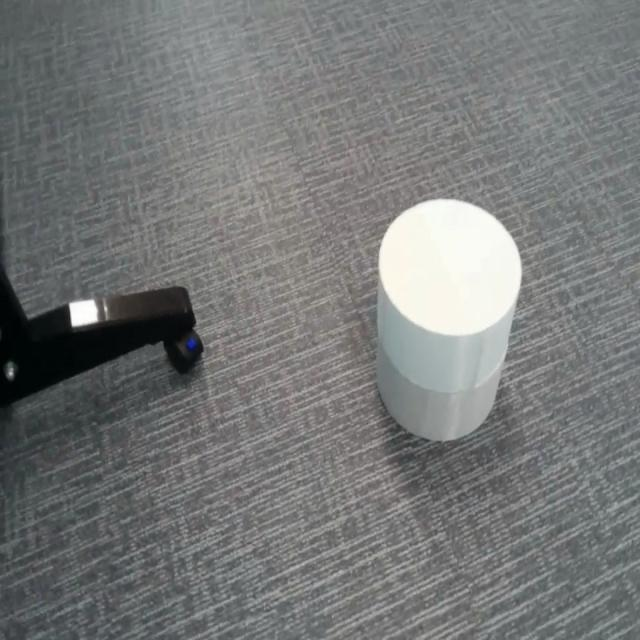cylinder: (376, 195, 523, 442)
